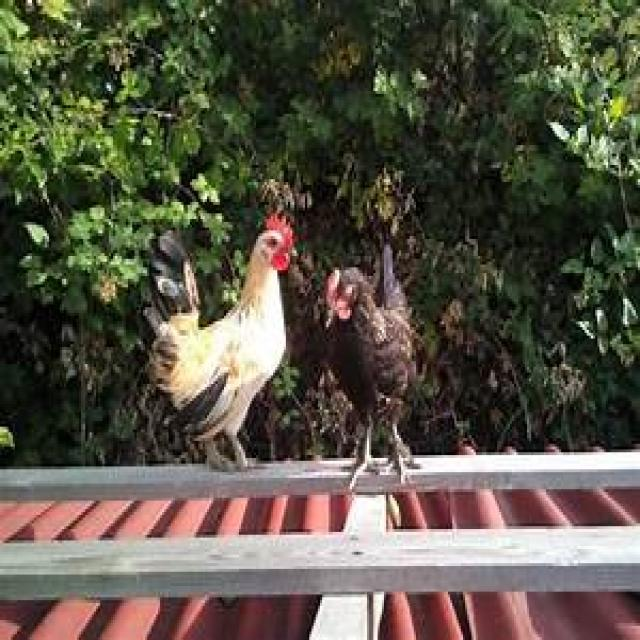hen: (149, 216, 294, 469), (318, 267, 418, 472)
